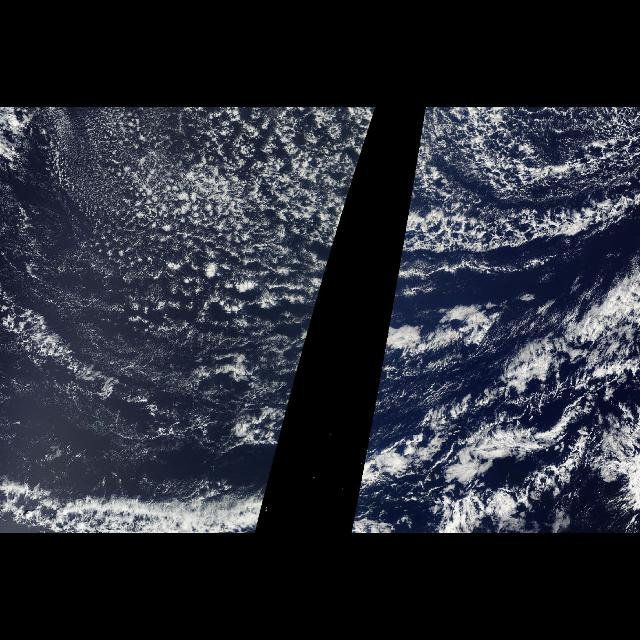Gravel: (40, 130, 342, 454), (400, 130, 632, 256)
Sugar: (0, 191, 104, 347)
